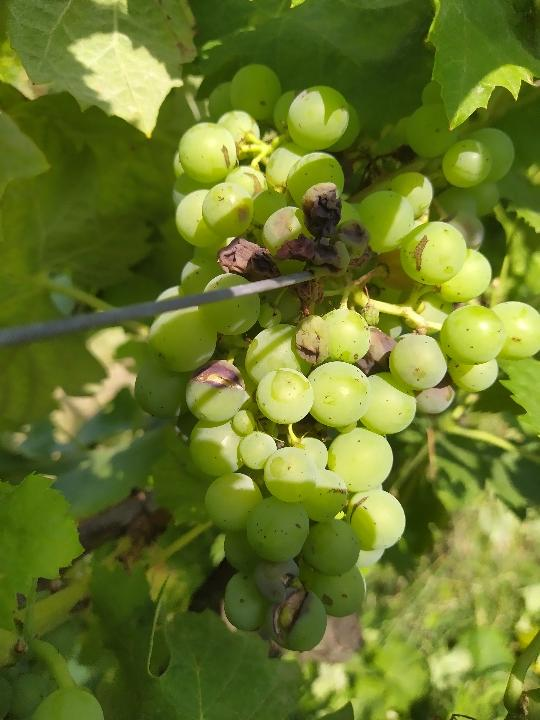grape: (132, 61, 534, 659)
